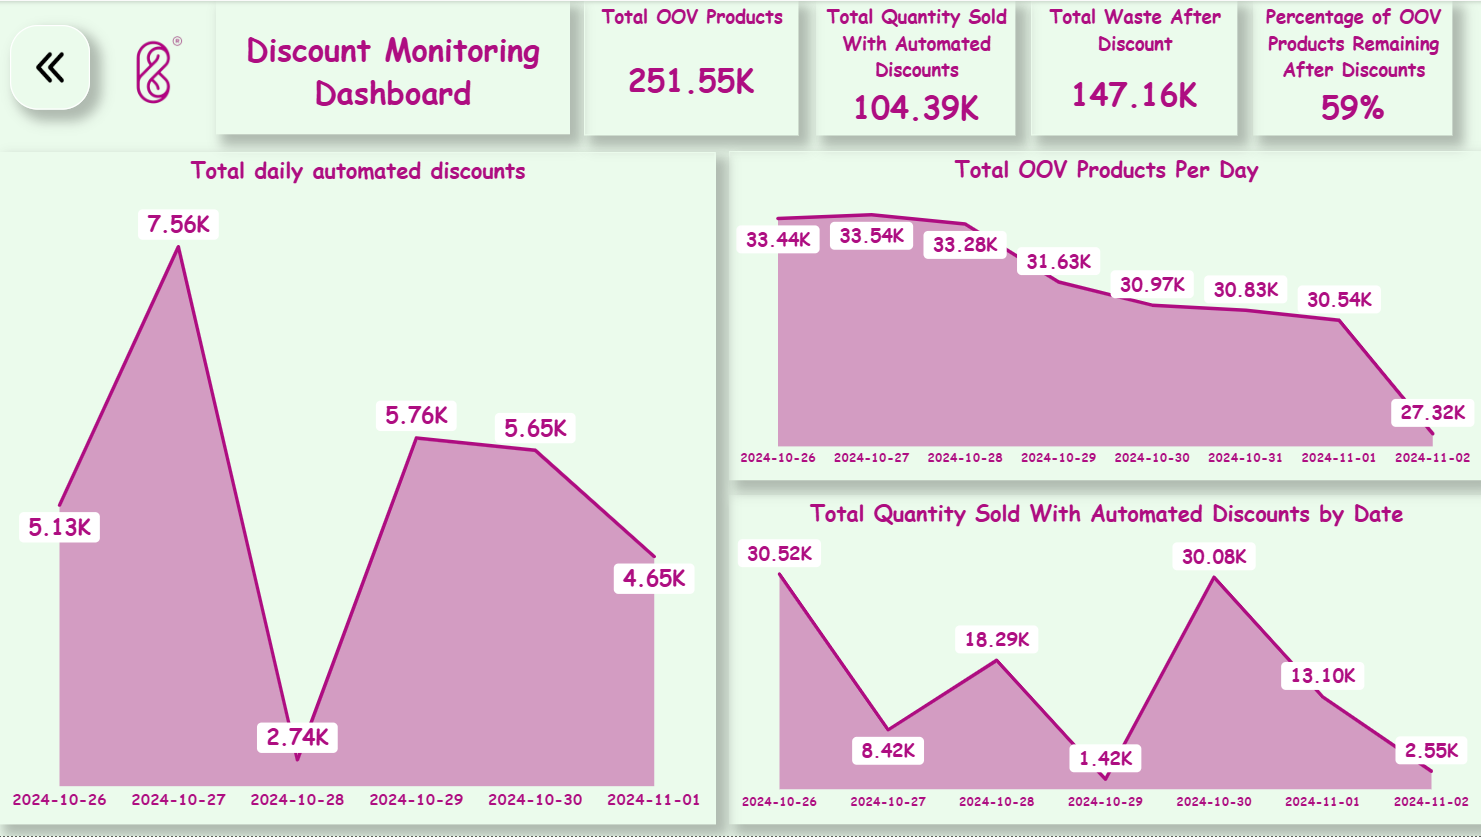

The dashboard page shown, as its layout file describes it:
{"tool":"powerbi","page":{"name":"Discount Monitoring Dashboard 2","canvas":[1280,720],"ordinal":1},"visuals":[{"type":"image","box":[79,0,109,115],"z":0},{"type":"textbox","box":[188,0,305,115],"z":1000},{"type":"card","title":"Total Quantity Sold With Automated Discounts","fields":{"Values":["Sum(fct_daily_cost_of_automatically_discounted_products.product_qty_sold_with_automated_discounts)"]},"box":[705.4,0,171.7,115.6],"z":2000},{"type":"card","title":"Total OOV Products","fields":{"Values":["Sum(fct_oov_products.oov)"]},"box":[505.7,0,184.5,115.6],"z":3000},{"type":"card","title":"Percentage of OOV Products Remaining After Discounts","fields":{"Values":["fct_oov_products.OOV Products Percentage after Discounts"]},"box":[1082.6,0,171.7,115.6],"z":4000},{"type":"card","title":"Total Waste After Discount","fields":{"Values":["fct_oov_products.Total Waste After Discount"]},"box":[891.1,0,177.5,115.6],"z":5000},{"type":"lineChart","title":"Total Quantity Sold With Automated Discounts by Date","fields":{"Category":["fct_daily_cost_of_automatically_discounted_products.Date"],"Y":["Sum(fct_daily_cost_of_automatically_discounted_products.product_qty_sold_with_automated_discounts)"]},"box":[630.7,426.3,649.3,283.8],"z":6000},{"type":"lineChart","title":"Total OOV Products Per Day","fields":{"Category":["fct_oov_products.Date"],"Y":["Sum(fct_oov_products.oov)"]},"box":[630.7,129.6,649.3,283.8],"z":7000},{"type":"lineChart","title":"Total daily automated discounts","fields":{"Category":["fct_automated_fps_products_discounts.Date"],"Y":["CountNonNull(fct_automated_fps_products_discounts.automated_applied_discount_key)"]},"box":[0,130,619,580],"z":8000},{"type":"image","box":[10,21,69,73],"z":9000}]}

Visuals, with their boxes in screenshot pixels (x1, y1, x2, y2), scaled from the page's 1280x720 canvas onto the 1481x837 screenshot:
image: left=91, top=0, right=218, bottom=134
textbox: left=218, top=0, right=570, bottom=134
"Total Quantity Sold With Automated Discounts" card: left=816, top=0, right=1015, bottom=134
"Total OOV Products" card: left=585, top=0, right=799, bottom=134
"Percentage of OOV Products Remaining After Discounts" card: left=1253, top=0, right=1451, bottom=134
"Total Waste After Discount" card: left=1031, top=0, right=1236, bottom=134
"Total Quantity Sold With Automated Discounts by Date" lineChart: left=730, top=496, right=1480, bottom=825
"Total OOV Products Per Day" lineChart: left=730, top=151, right=1480, bottom=481
"Total daily automated discounts" lineChart: left=0, top=151, right=716, bottom=825
image: left=12, top=24, right=91, bottom=109
